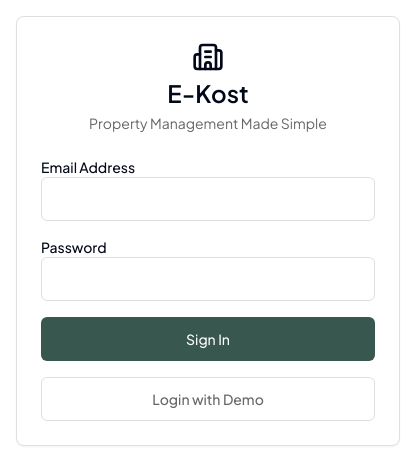
LoginForm › demo login › disables demo button while demo login is in progress
Click the button "Login with Demo".
click(208, 399)  # box [41,377,375,421]
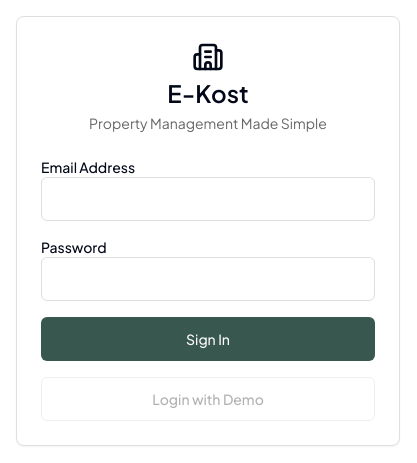
Expected: the button "Login with Demo" is disabled, [41,377,375,421]
